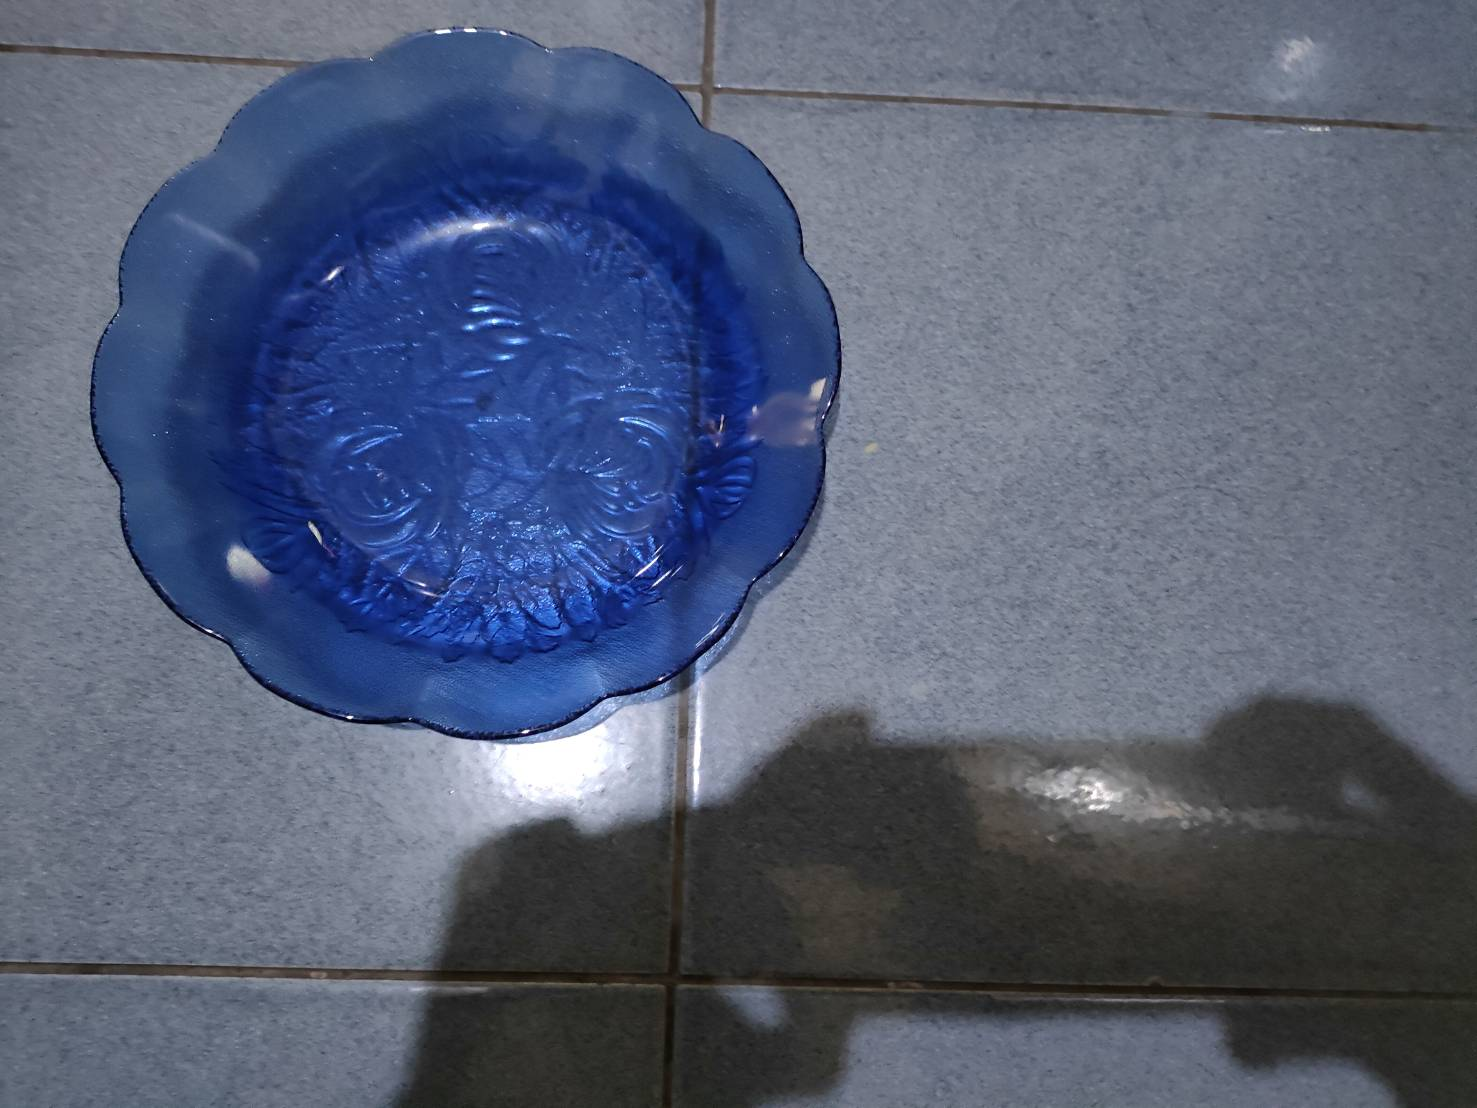piring: (88, 22, 848, 746)
